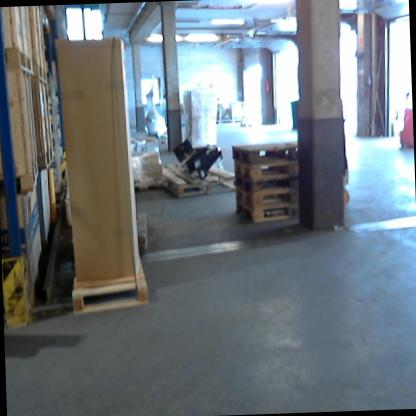pallet: (157, 159, 238, 200), (236, 201, 304, 226), (233, 158, 305, 180), (235, 185, 306, 206), (231, 142, 304, 162), (234, 174, 308, 193), (127, 211, 149, 255)
